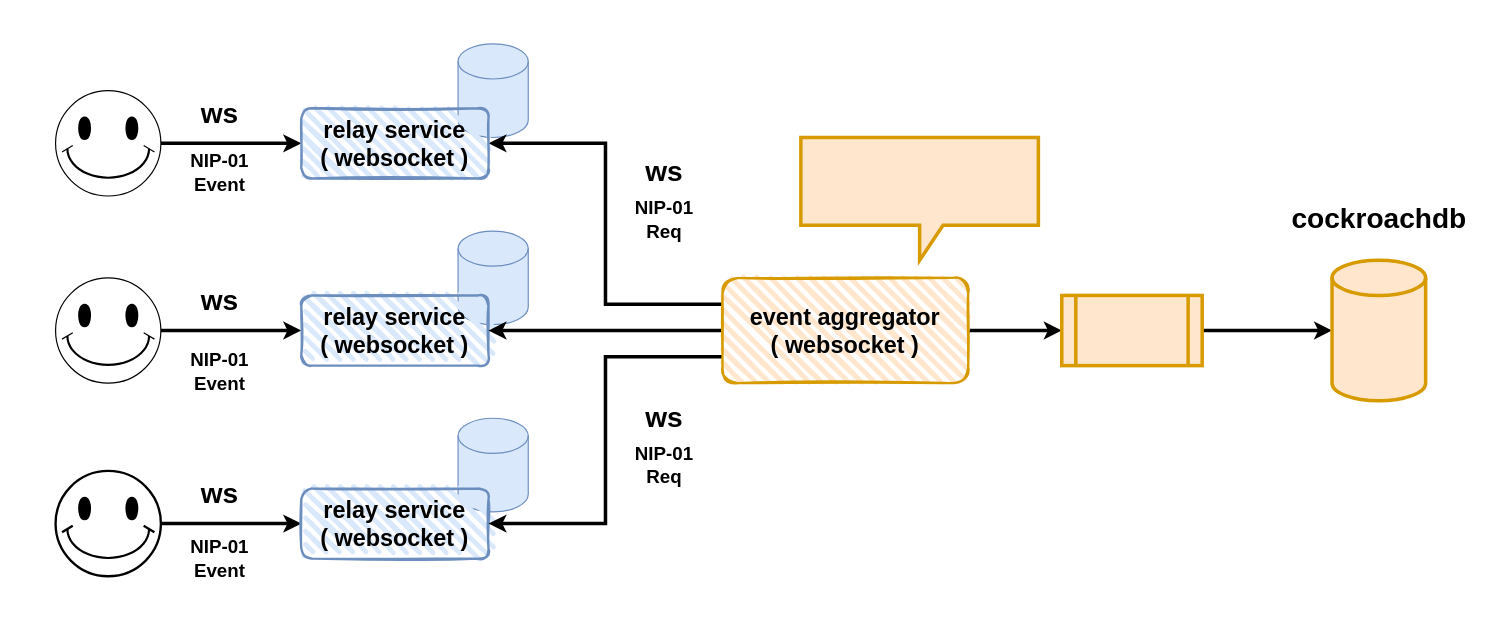
The diagram is 1502 pixels wide and 625 high, and some of its shapes have lost their labels. The box of each missing label's shape, as (x1, y1, x2, y2) in pixels:
Kafka: (1059, 293, 1203, 367)
Subscribe relay service and aggregate all event: (799, 135, 1040, 261)
